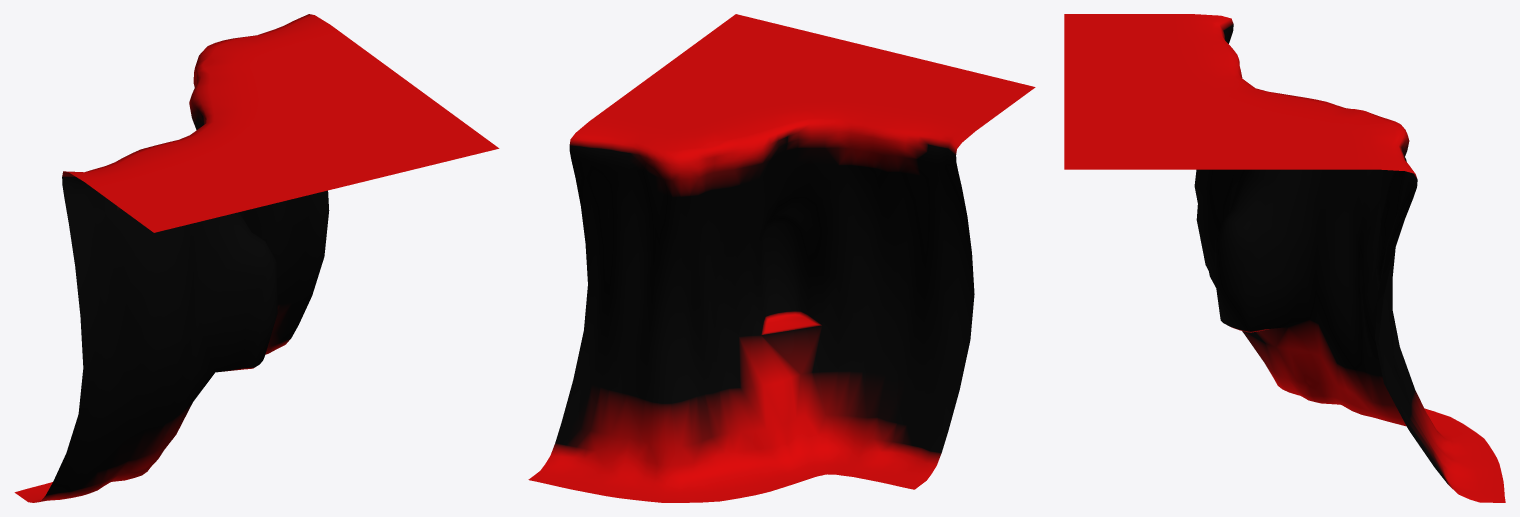
Rendered from GroundCliff05B 2M Foreground.fbx.
3 renders of one model, left to right at view 1: azimuth 30°, elevation 25°; view 2: azimuth 150°, elevation 25°; view 3: azimuth 270°, elevation 25°, orthographic. The views are drawn at different scales.
Parts seen in each view (by area): view 1: GroundCliff05B 2M Foreground; view 2: GroundCliff05B 2M Foreground; view 3: GroundCliff05B 2M Foreground.
Boxes of the visible parts, x1,y1,x2,y2 form: GroundCliff05B 2M Foreground: (14, 14, 499, 502); GroundCliff05B 2M Foreground: (528, 14, 1035, 502); GroundCliff05B 2M Foreground: (1064, 14, 1505, 502).
Bounding box in the file's own units: 2 × 2 × 2.4.
